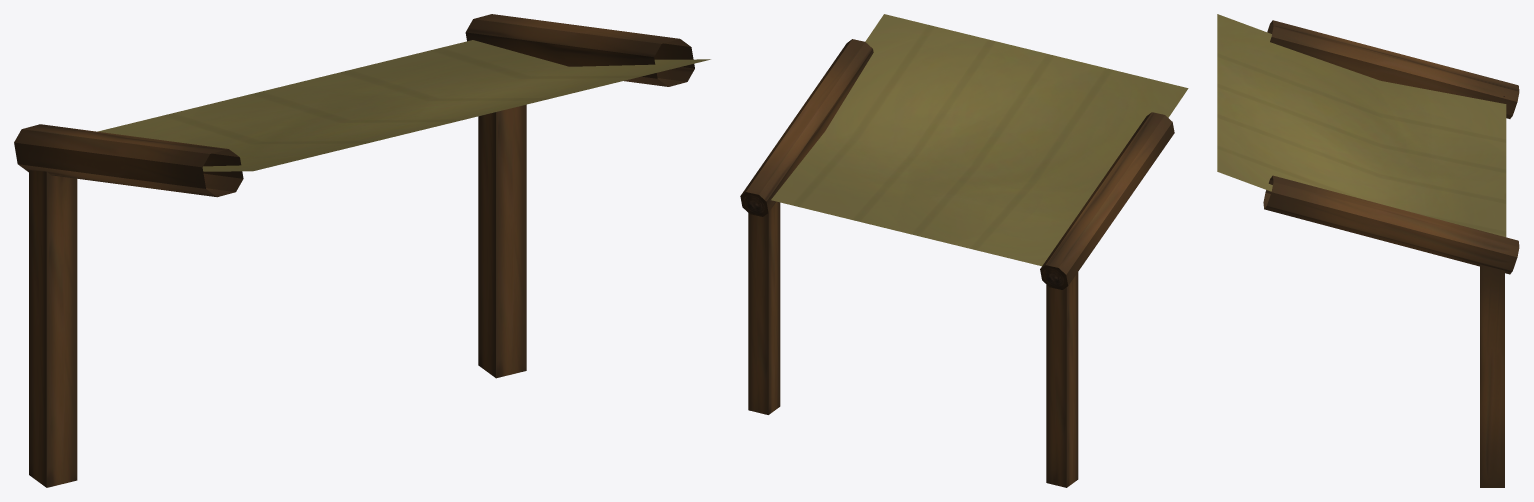
File: shed.fbx
The picture shows the model from 3 angles, left to right: view 1: azimuth 30°, elevation 25°; view 2: azimuth 150°, elevation 25°; view 3: azimuth 270°, elevation 25°; orthographic projection. The views are drawn at different scales.
Parts seen in each view (by area): view 1: pPlane1, pCube23, pCube127, pCube126, pCube26; view 2: pPlane1, pCube126, pCube127, pCube23, pCube26; view 3: pPlane1, pCube26, pCube126, pCube127.
Boxes of the visible parts, x1=… form: pPlane1: x1=98, y1=40, x2=710, y2=171; pCube23: x1=29, y1=170, x2=77, y2=487; pCube127: x1=478, y1=104, x2=526, y2=378; pCube126: x1=14, y1=124, x2=243, y2=197; pCube26: x1=465, y1=14, x2=694, y2=86; pPlane1: x1=771, y1=14, x2=1188, y2=266; pCube126: x1=1040, y1=112, x2=1174, y2=289; pCube127: x1=748, y1=201, x2=780, y2=414; pCube23: x1=1046, y1=259, x2=1078, y2=487; pCube26: x1=740, y1=39, x2=873, y2=216; pPlane1: x1=1217, y1=14, x2=1506, y2=237; pCube26: x1=1263, y1=175, x2=1519, y2=274; pCube126: x1=1267, y1=20, x2=1519, y2=118; pCube127: x1=1480, y1=264, x2=1504, y2=487.
Size of the model in its own units: 3.51 by 2.98 by 2.58.
